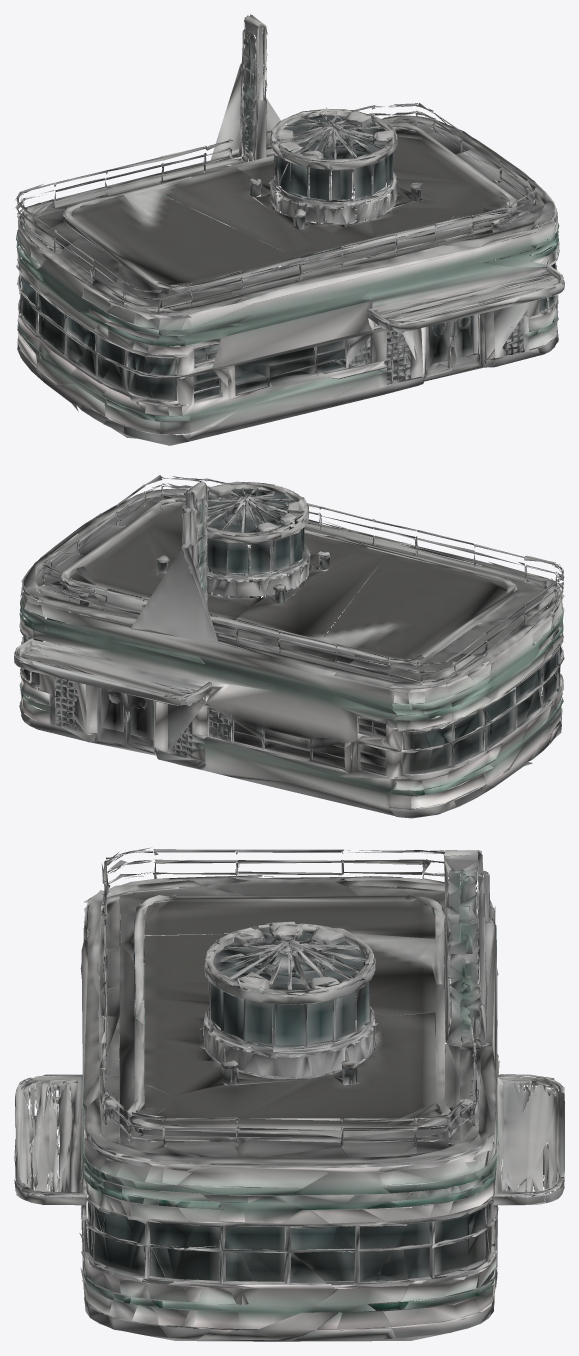
File: pilothouse.glb
The picture shows the model from 3 angles, top to bottom: view 1: azimuth 30°, elevation 25°; view 2: azimuth 150°, elevation 25°; view 3: azimuth 270°, elevation 25°; orthographic projection. The views are drawn at different scales.
Visible parts, largest first — view 1: LO.001; view 2: LO.001; view 3: LO.001.
Part boxes in pixels (x1,y1,x2,y2): LO.001: [14, 14, 564, 445]; LO.001: [14, 475, 564, 818]; LO.001: [14, 847, 564, 1341].
Bounding box in the file's own units: 20.42 × 11.81 × 16.03.
Materials: 1 (1 with a texture image).
